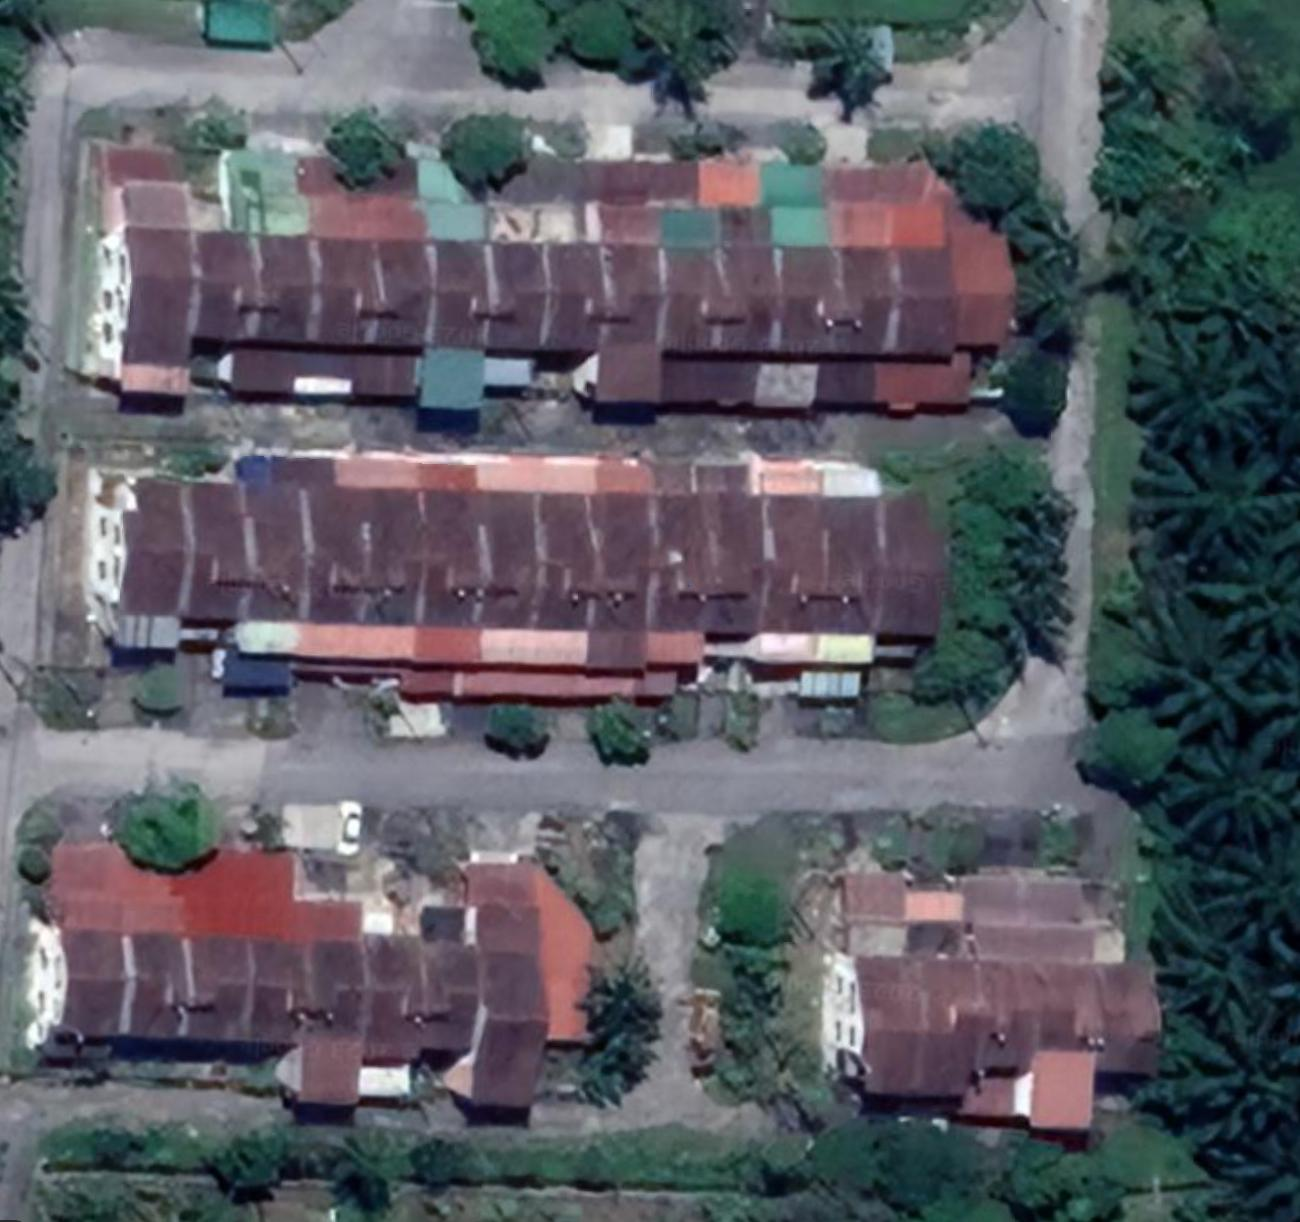building: (79, 129, 210, 412), (461, 854, 556, 1126), (959, 857, 1050, 1129), (761, 152, 851, 419), (838, 867, 936, 1109), (1023, 858, 1107, 1138), (880, 152, 966, 424), (705, 148, 789, 420), (415, 149, 500, 416), (826, 155, 910, 420), (938, 167, 1026, 417), (589, 148, 672, 410), (652, 147, 734, 412), (41, 835, 140, 1050), (286, 888, 377, 1113), (914, 873, 992, 1121), (331, 442, 415, 670), (115, 836, 200, 1053), (303, 146, 390, 356), (242, 142, 327, 355), (1084, 867, 1167, 1084), (542, 146, 620, 372), (573, 449, 648, 682), (489, 145, 556, 400), (403, 444, 474, 673), (462, 442, 532, 674), (187, 842, 262, 1055), (521, 442, 589, 676), (813, 451, 885, 670), (243, 844, 317, 1058), (286, 442, 356, 665), (687, 450, 758, 668), (367, 152, 440, 361), (752, 449, 819, 673), (231, 438, 297, 660), (536, 854, 610, 1045), (640, 456, 701, 676), (102, 465, 181, 626), (879, 484, 955, 649), (411, 896, 485, 1067), (364, 922, 430, 1100), (172, 462, 240, 633), (199, 221, 270, 347)
